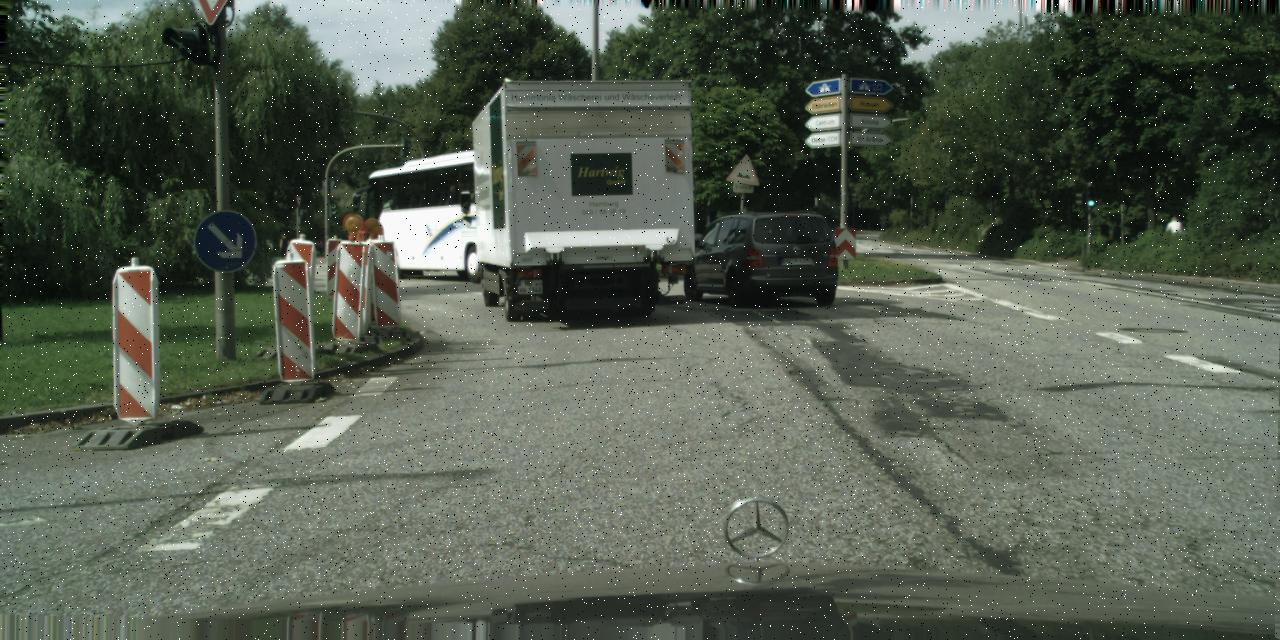ped: (1167, 216, 1181, 252), (1098, 220, 1111, 251), (1110, 221, 1122, 253), (278, 232, 290, 262), (317, 238, 324, 255), (312, 238, 317, 250)
